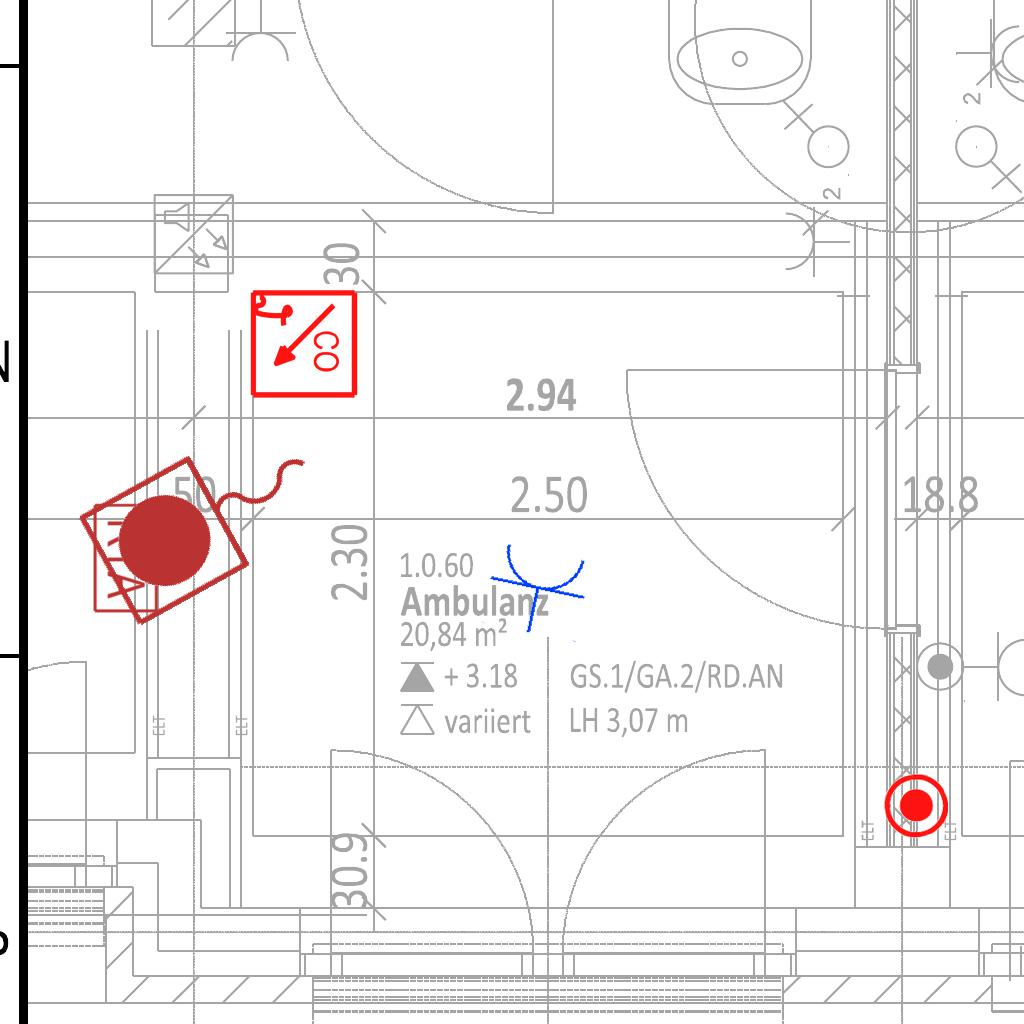ROA_Rauchmelder_optisch_mit_Signalgeber_(Sockelsirene): (246, 288, 359, 401)
Ruf-und_Abstelltaster: (91, 500, 160, 614)
Schukosteckdose_einfach: (480, 537, 596, 644)
Taster: (881, 771, 949, 839)
Zugtaster: (67, 395, 351, 641)
